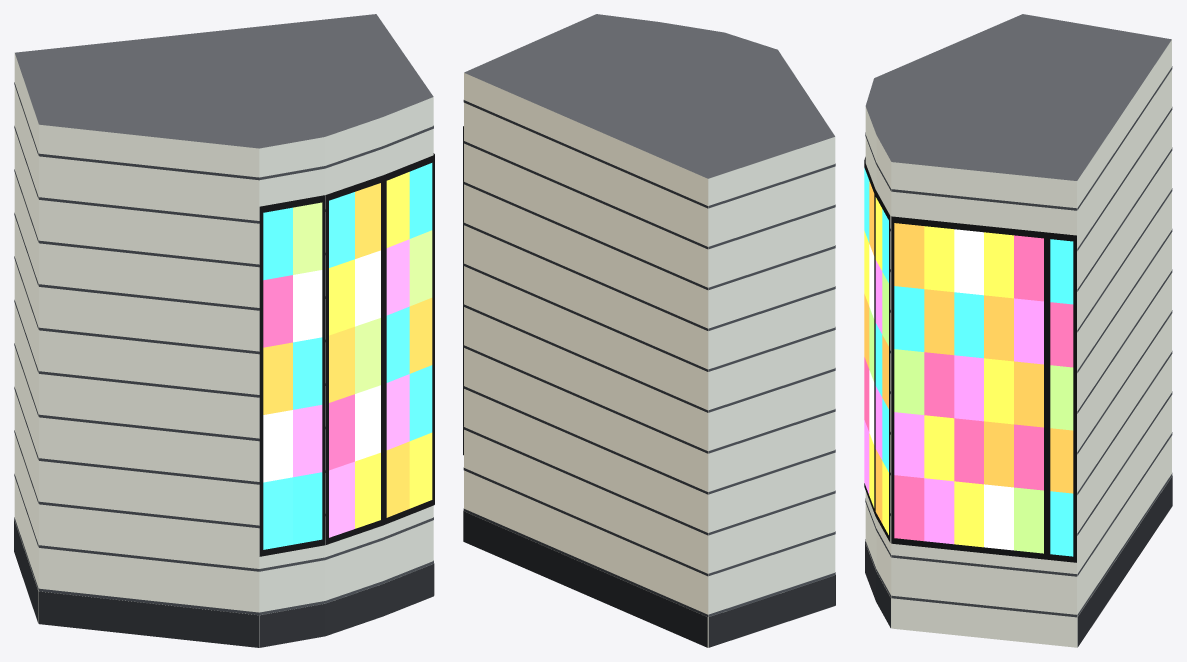
Rendered from qfront.glb.
3 views of the same model, side by side, from view 1: azimuth 30°, elevation 25°; view 2: azimuth 150°, elevation 25°; view 3: azimuth 270°, elevation 25° (orthographic). The views are drawn at different scales.
Visible parts, largest first — view 1: FQF_Building; view 2: FQF_Building; view 3: FQF_Building.
Boxes of the visible parts, box(x1,y1,x2,y2) form: FQF_Building: box(14, 14, 434, 647); FQF_Building: box(463, 14, 835, 647); FQF_Building: box(864, 14, 1172, 647).
Bounding box in the file's own units: 35.41 × 45.9 × 27.49.
